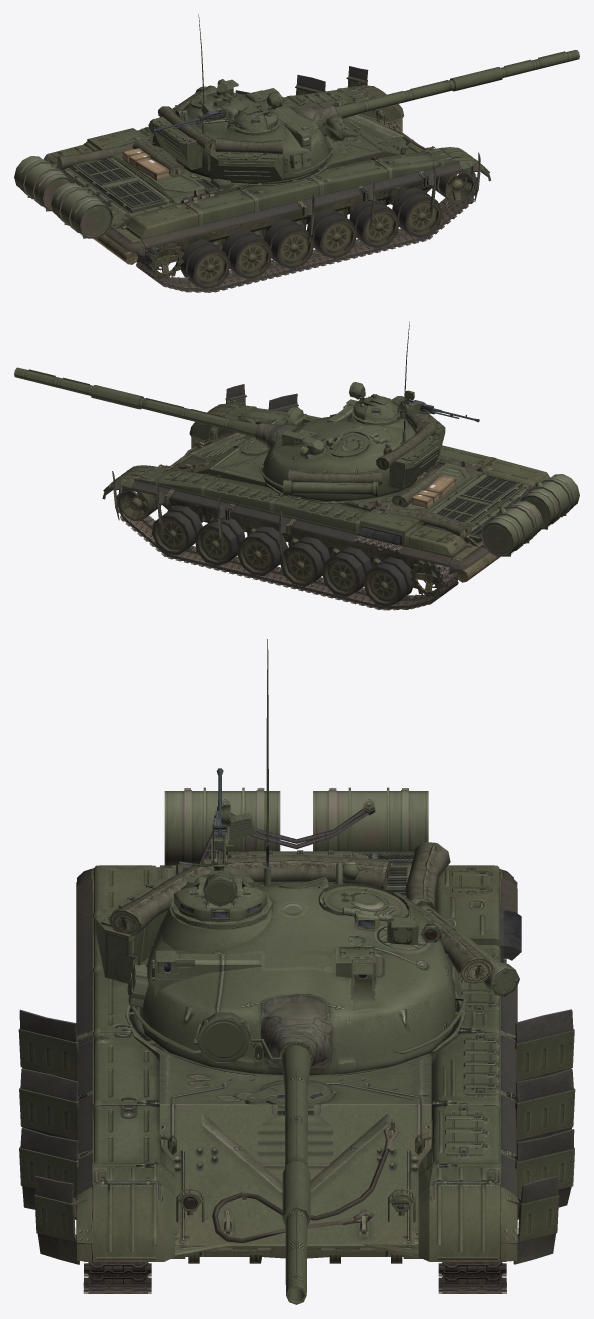
3 views of the same model, one above another, from view 1: azimuth 30°, elevation 25°; view 2: azimuth 150°, elevation 25°; view 3: azimuth 270°, elevation 25° (orthographic). The views are drawn at different scales.
Visible parts, largest first — view 1: guard, turret, hull, hullb, gear4, track03, weapon, tire06, tire05, tire01, tire04, tire03 (+23 smaller); view 2: guard, turret, hull, gear4, track2, hullb, weapon, tire.005, gear8, tire.004, gear11, tire.003 (+22 smaller); view 3: guard, turret, hull, gear4, weapon, gear10, skirt6, skirt8, skirt5, mount2, skirt7, skirt3 (+15 smaller).
Part boxes in pixels (x1,y1,x2,y2): guard: (44,85,491,250); turret: (148,79,345,183); hull: (63,101,435,262); hullb: (61,146,222,249); gear4: (14,156,112,238); track03: (136,162,476,292); weapon: (335,50,579,118); tire06: (180,239,230,288); tire05: (222,229,272,279); tire01: (392,187,442,237); tire04: (264,219,314,268); tire03: (307,208,357,258); guard: (102,403,549,569); turret: (258,407,445,500); hull: (158,418,533,580); gear4: (481,474,579,556); track2: (117,480,458,610); hullb: (371,460,533,567); weapon: (14,367,258,437); tire.005: (363,557,413,606); gear8: (386,504,472,538); tire.004: (322,546,372,597); gear11: (287,469,382,484); tire.003: (280,536,330,586); guard: (76,865,517,1261); turret: (95,850,519,1075); hull: (125,866,465,1263); gear4: (164,787,428,865); weapon: (279,1042,314,1304); gear10: (201,854,390,889); skirt6: (514,1068,575,1150); skirt8: (514,1009,574,1081); skirt5: (19,1068,79,1140); mount2: (170,872,272,925); skirt7: (18,1009,79,1080); skirt3: (19,1127,79,1219).
Size of the model in its own units: 10.02 by 4.28 by 4.54.
15 materials, 15 textured.
